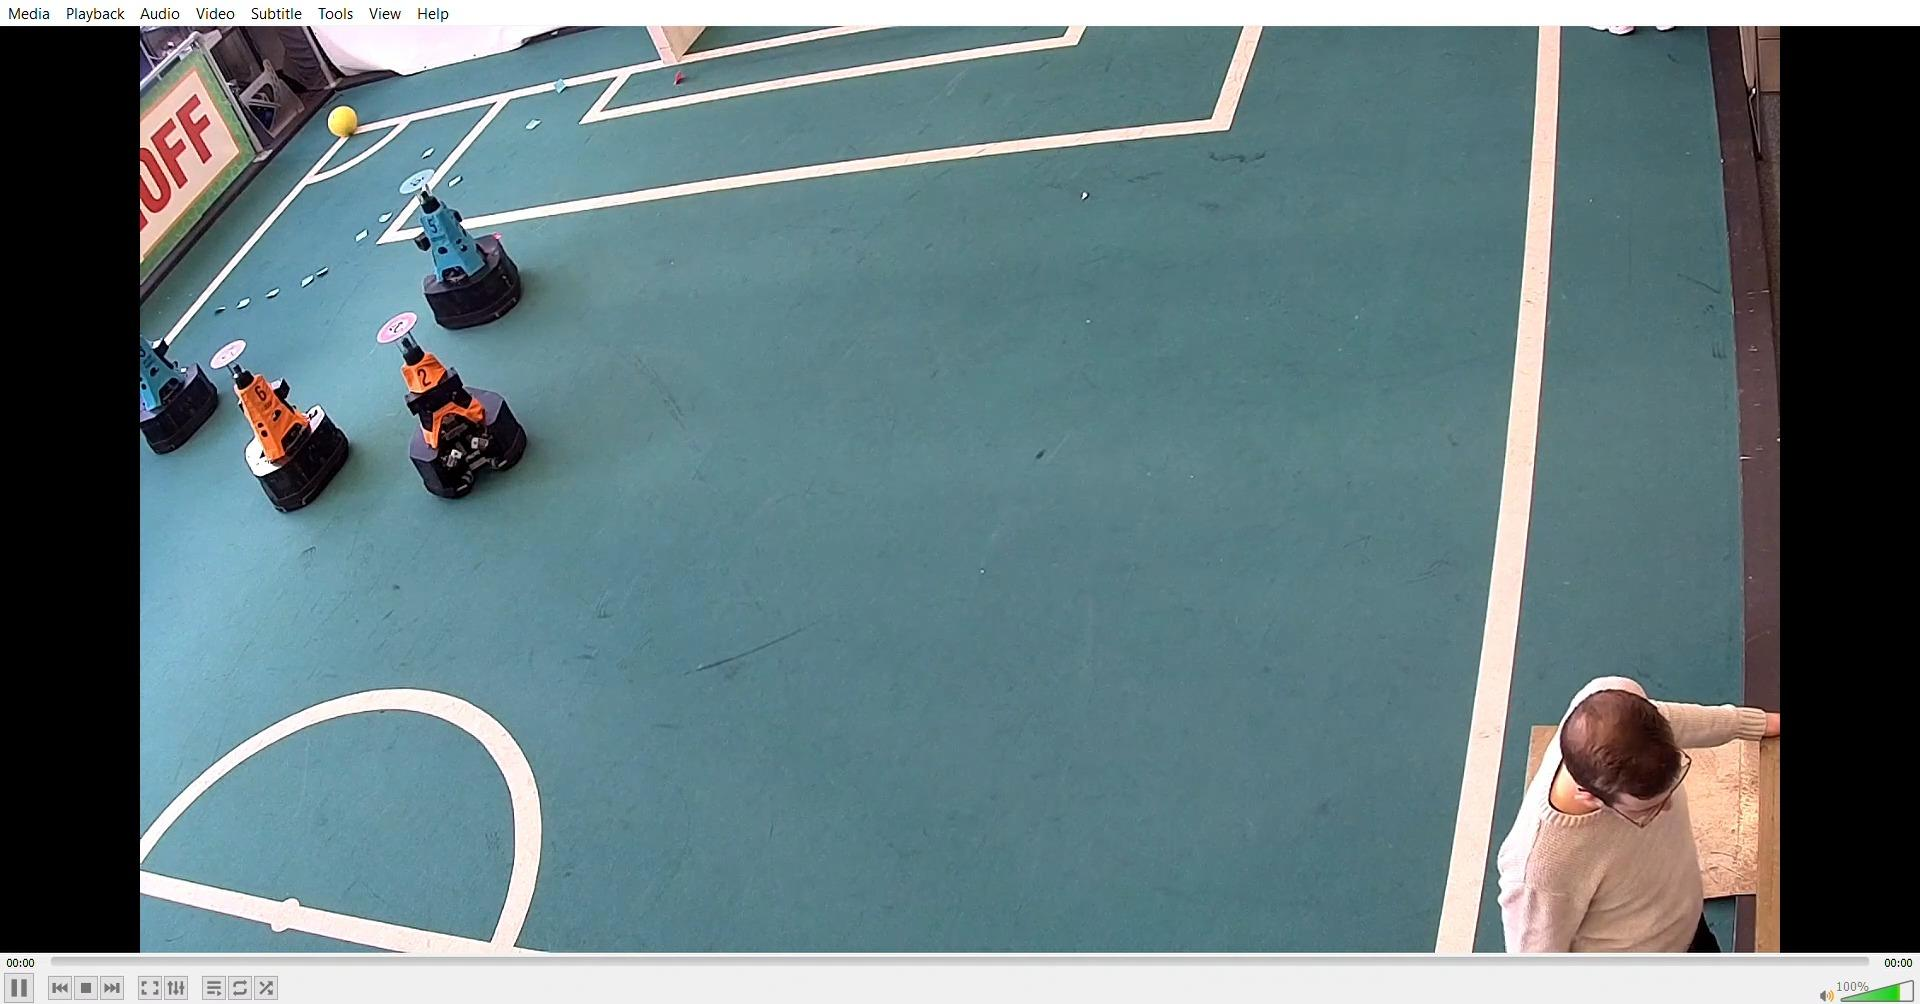Ball: (326, 105, 363, 138)
Team_Blue: (400, 165, 536, 329), (138, 319, 237, 456)
Team_Red: (375, 302, 533, 499), (210, 335, 347, 510)
